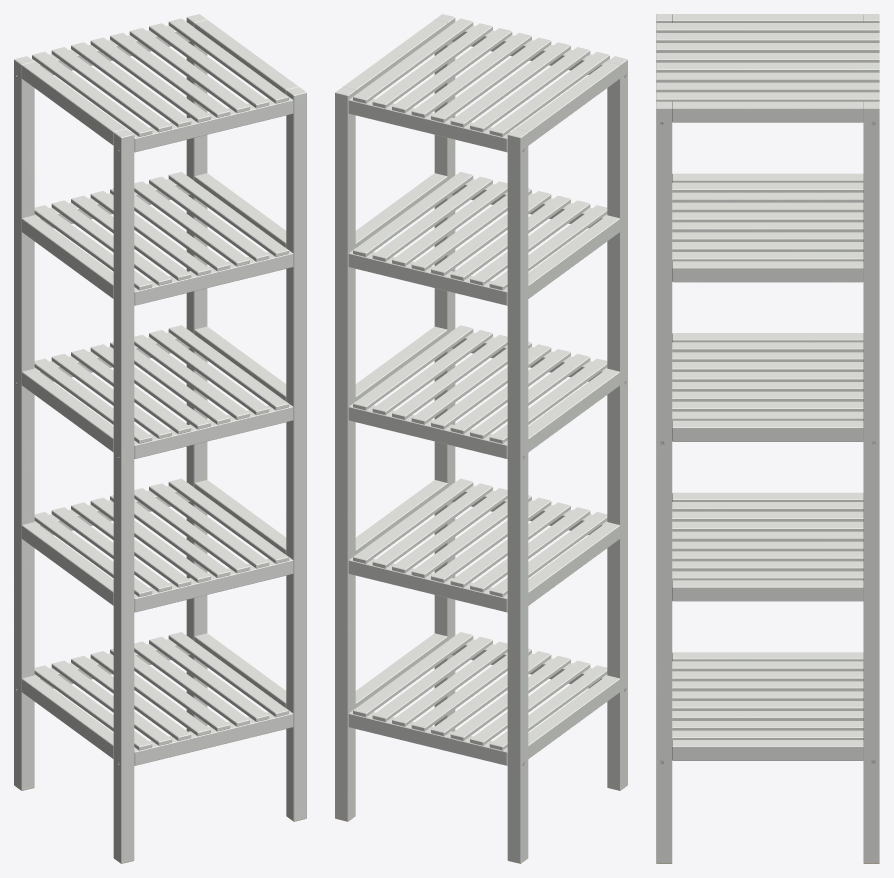
The model's file is muskan_rega_50424327.glb.
3 renders of one model, left to right at view 1: azimuth 30°, elevation 25°; view 2: azimuth 150°, elevation 25°; view 3: azimuth 270°, elevation 25°, orthographic. The views are drawn at different scales.
Parts seen in each view (by area): view 1: muskan_rega_50424327; view 2: muskan_rega_50424327; view 3: muskan_rega_50424327.
Part boxes in pixels (x1,y1,x2,y2): muskan_rega_50424327: (14,14,306,863); muskan_rega_50424327: (335,14,627,863); muskan_rega_50424327: (656,14,879,863).
Size of the model in its own units: 0.3724 by 1.39 by 0.372.
1 material, 1 textured.
